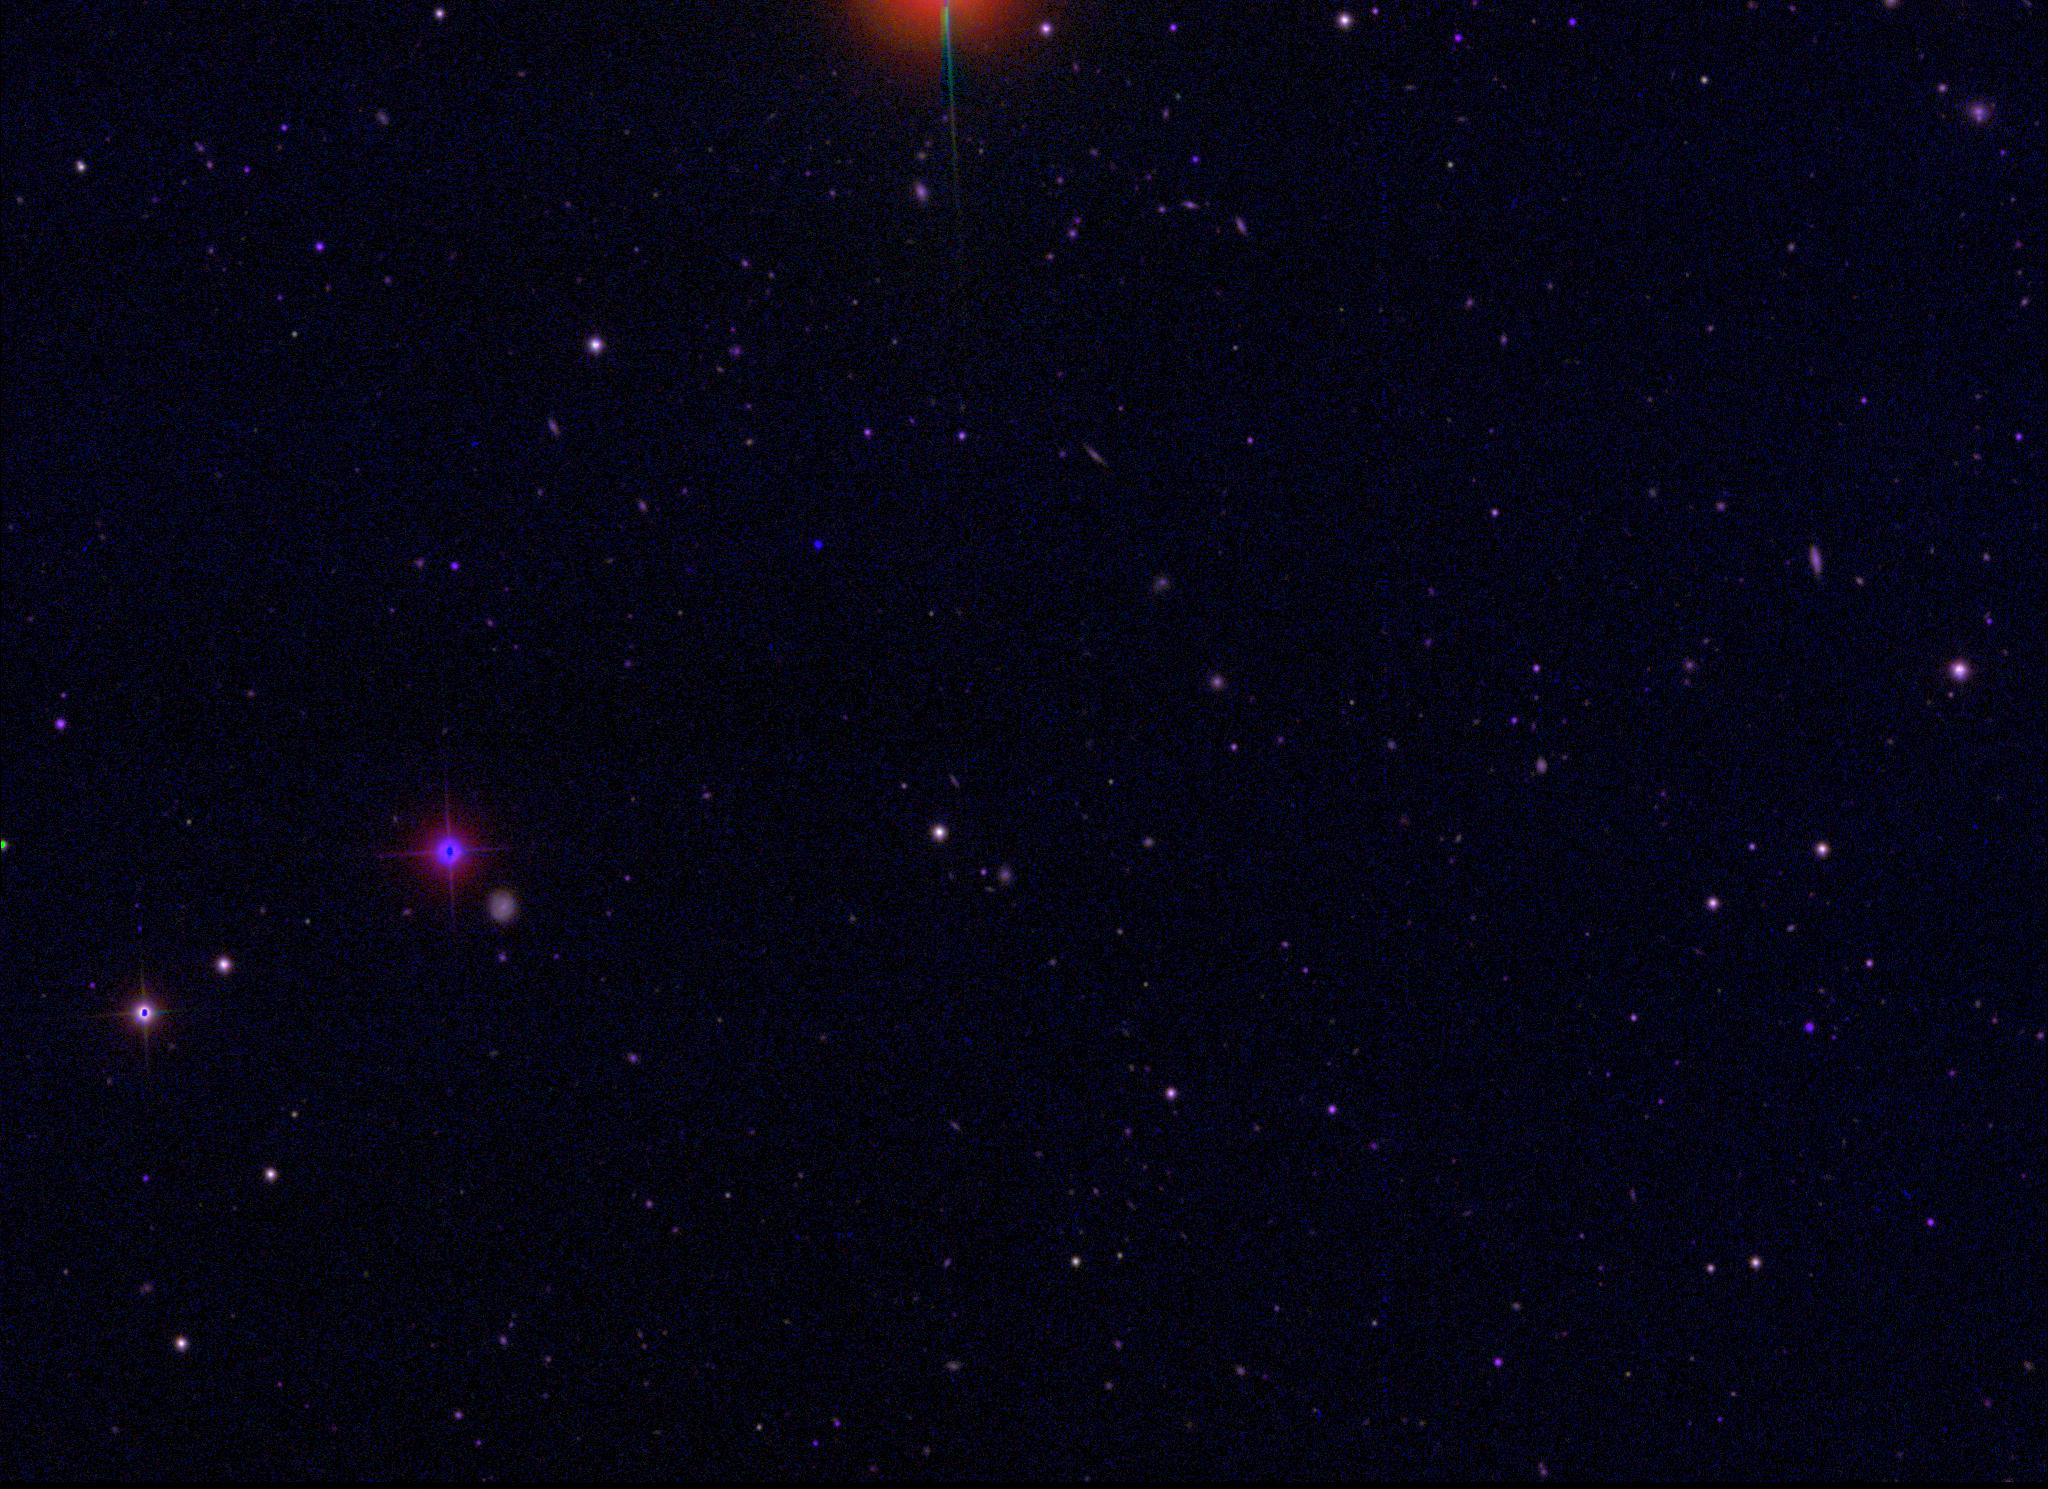L: (808, 538, 820, 550)
